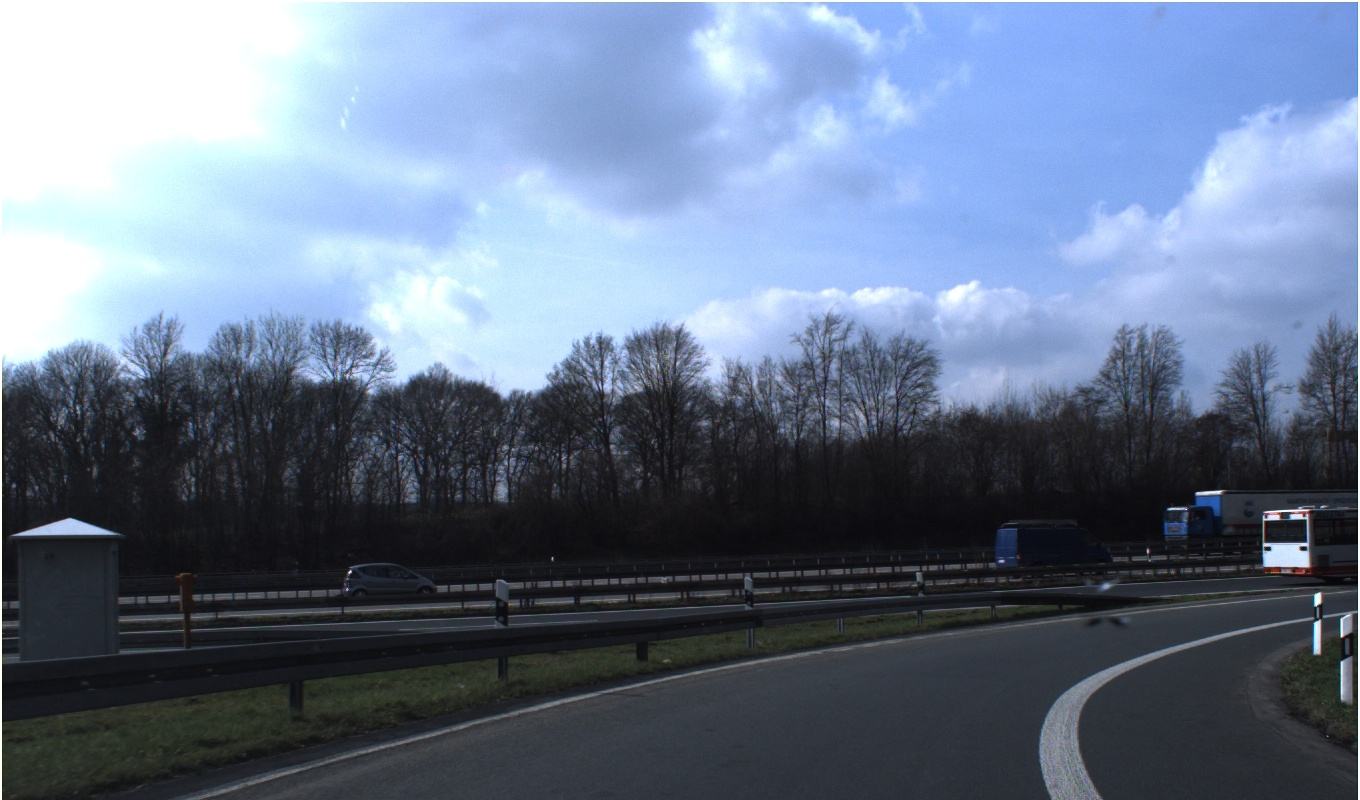Priority road: (241, 187, 310, 256)
